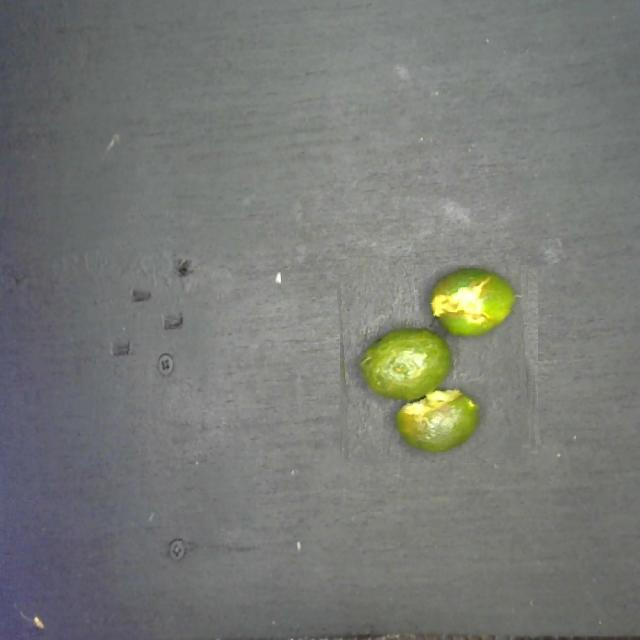biodegradable: (340, 265, 538, 463)
